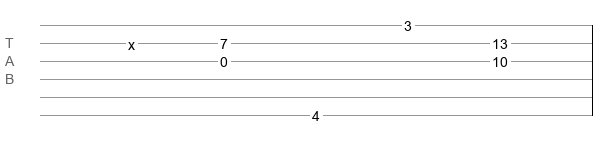0: (220, 54, 228, 64)
10: (492, 54, 508, 64)
13: (492, 36, 508, 46)
3: (404, 18, 412, 28)
4: (312, 108, 320, 118)
7: (220, 36, 228, 46)
x: (128, 37, 135, 45)
